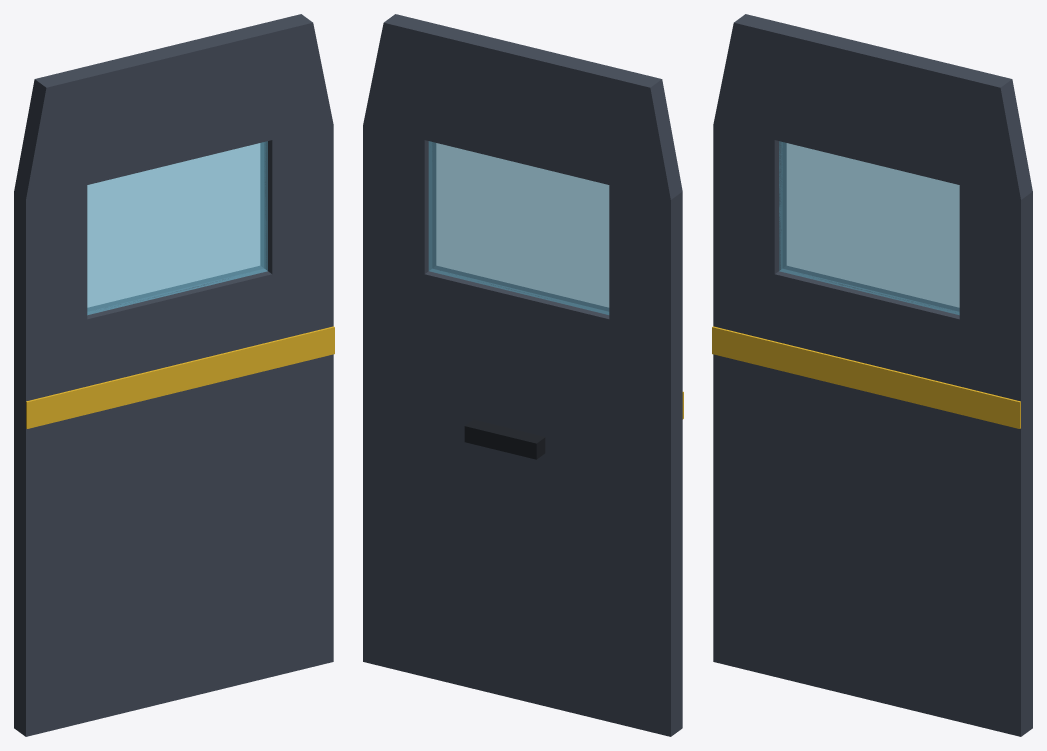
Rendered from riot_shield.glb.
3 renders of one model, left to right at view 1: azimuth 30°, elevation 25°; view 2: azimuth 150°, elevation 25°; view 3: azimuth 330°, elevation 25°, orthographic.
Visible parts, largest first — view 1: riot_shield; view 2: riot_shield; view 3: riot_shield.
Boxes of the visible parts, <box> form: riot_shield: <box>14,14,334,736</box>; riot_shield: <box>363,14,683,736</box>; riot_shield: <box>712,14,1032,736</box>.
Size of the model in its own units: 0.6 by 1.2 by 0.099.
